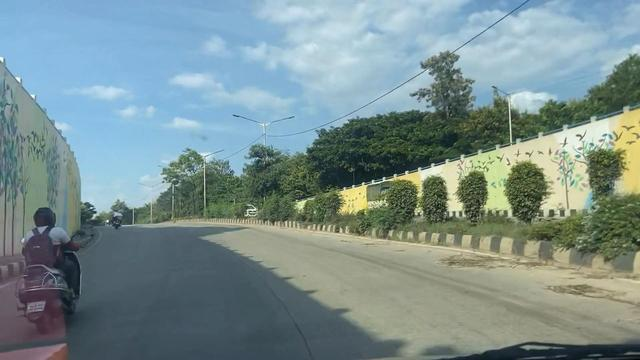LMV: (5, 201, 85, 318)
RoadDamages: (255, 271, 321, 360)
